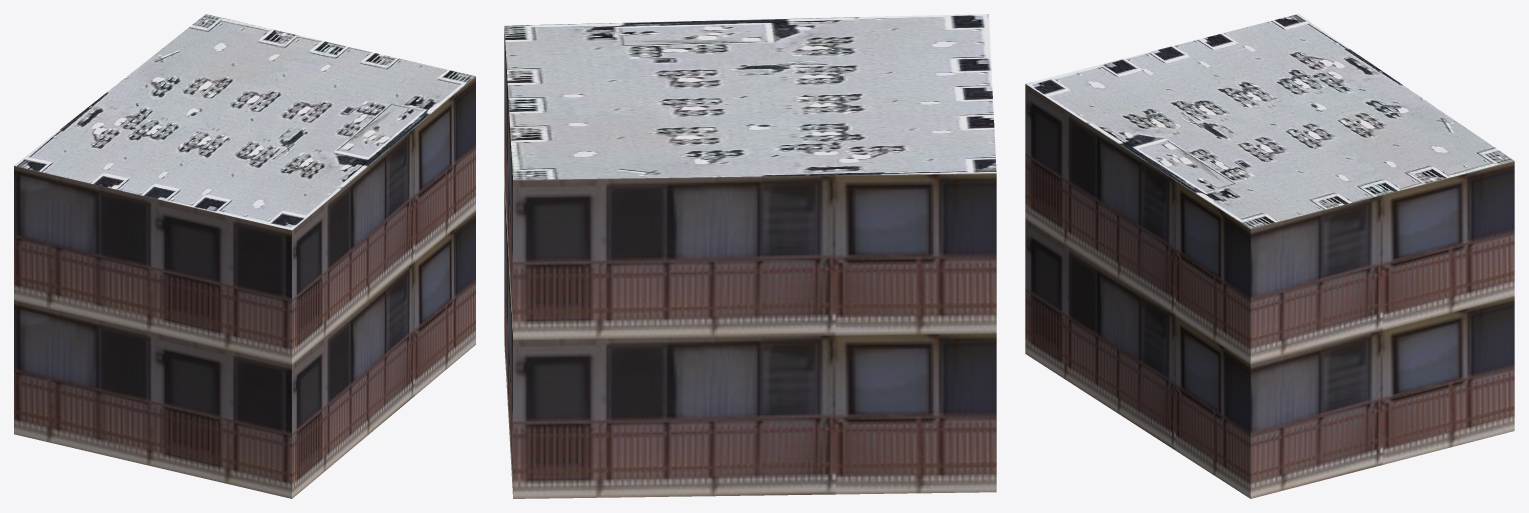
Rendered from ResTex__39.fbx.
3 renders of one model, left to right at view 1: azimuth 30°, elevation 25°; view 2: azimuth 150°, elevation 25°; view 3: azimuth 270°, elevation 25°, orthographic. The views are drawn at different scales.
Parts seen in each view (by area): view 1: CityEngineMaterial_6_m, CityEngineMaterial_2_m; view 2: CityEngineMaterial_6_m, CityEngineMaterial_2_m; view 3: CityEngineMaterial_6_m, CityEngineMaterial_2_m.
Part boxes in pixels (x1,y1,x2,y2): CityEngineMaterial_6_m: [14, 76, 475, 498]; CityEngineMaterial_2_m: [14, 14, 475, 230]; CityEngineMaterial_6_m: [504, 28, 996, 498]; CityEngineMaterial_2_m: [504, 14, 996, 179]; CityEngineMaterial_6_m: [1025, 84, 1514, 498]; CityEngineMaterial_2_m: [1025, 14, 1514, 228].
Size of the model in its own units: 10.24 by 6 by 9.85.
Materials: 2 (2 with a texture image).
